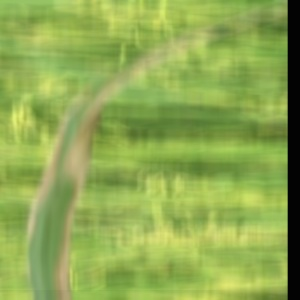Leaf_Blast: (27, 121, 89, 299)
